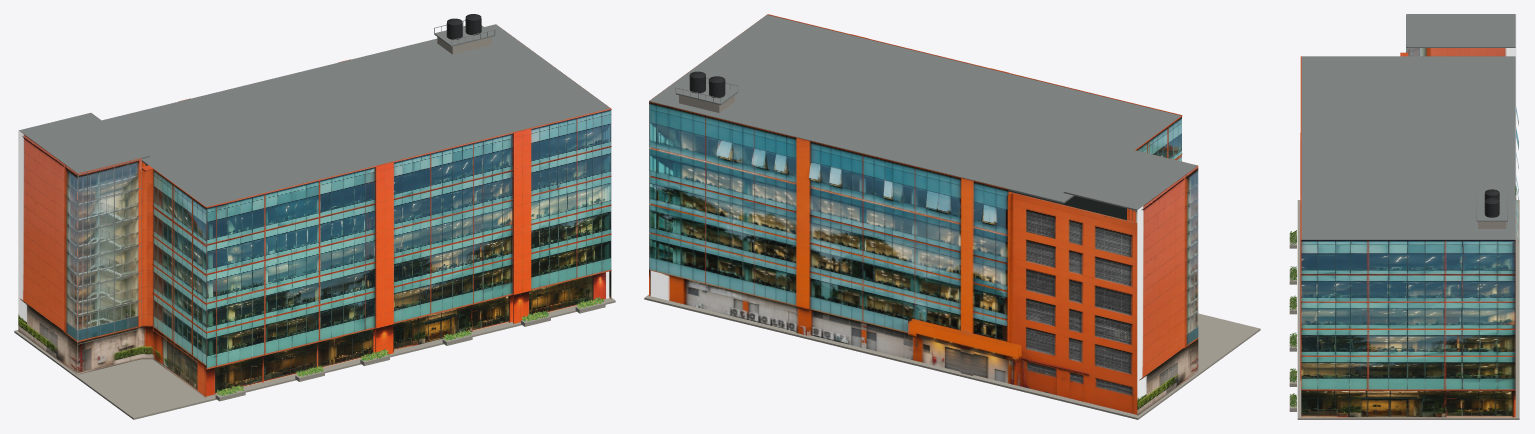
The model's file is fleet-house.glb.
3 renders of one model, left to right at view 1: azimuth 30°, elevation 25°; view 2: azimuth 150°, elevation 25°; view 3: azimuth 270°, elevation 25°, orthographic. The views are drawn at different scales.
Parts seen in each view (by area): view 1: Fleet Building Andheri; view 2: Fleet Building Andheri; view 3: Fleet Building Andheri.
Part boxes in pixels (x1,y1,x2,y2): Fleet Building Andheri: (14, 14, 615, 419); Fleet Building Andheri: (644, 14, 1260, 419); Fleet Building Andheri: (1289, 14, 1519, 419).
Bounding box in the file's own units: 66 × 28.7 × 29.57.
13 materials, 3 textured.
